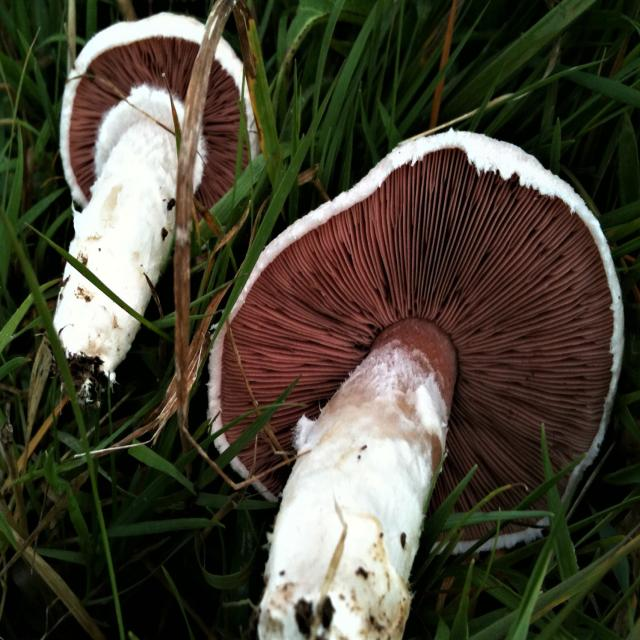field-mushroom: (207, 130, 626, 640), (52, 12, 255, 382)
